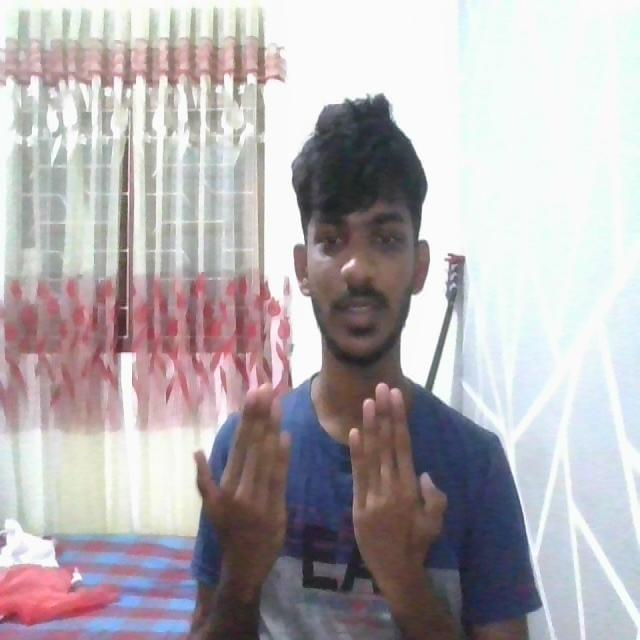ThankYou: (177, 366, 543, 640)
